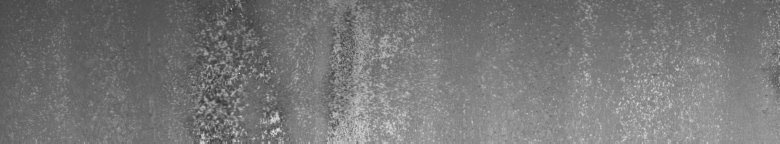hc: (194, 4, 352, 136)
